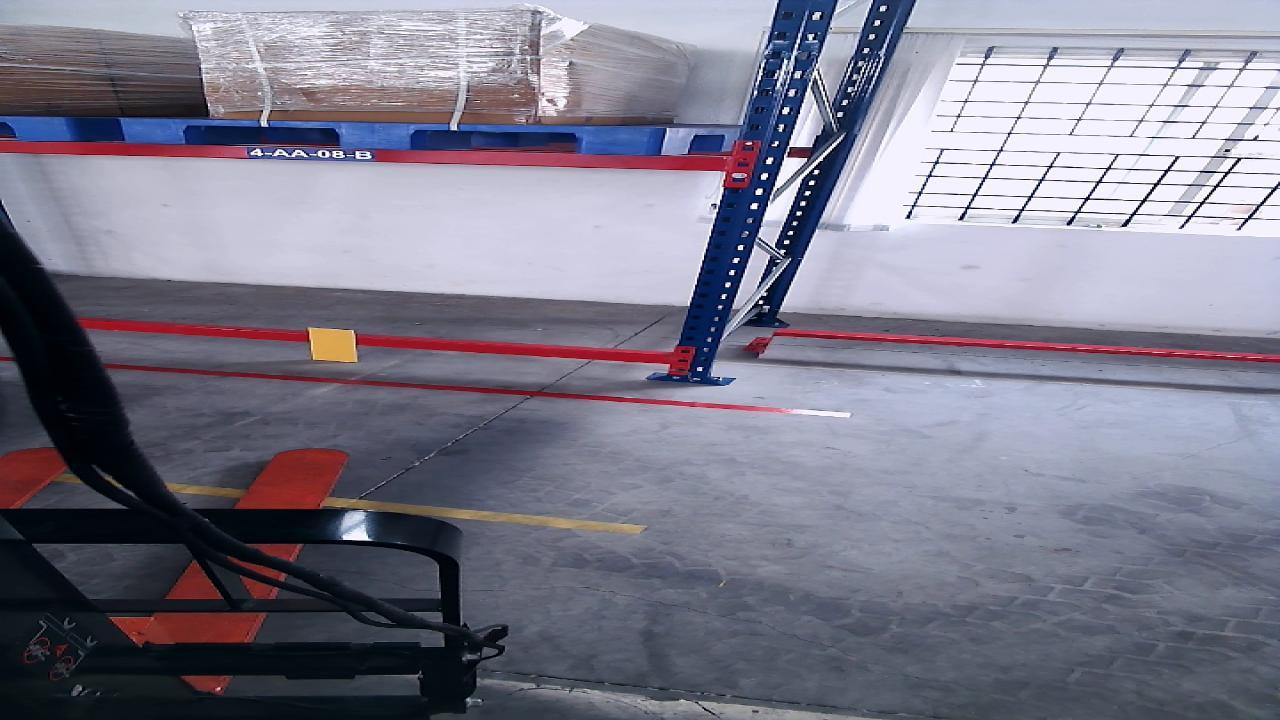h_rack: (75, 319, 667, 363), (0, 142, 725, 170)
orange_strip: (309, 328, 358, 362)
red_line: (102, 362, 849, 417)
small_pallet: (119, 118, 664, 153)
yellow_line: (174, 481, 644, 538)
